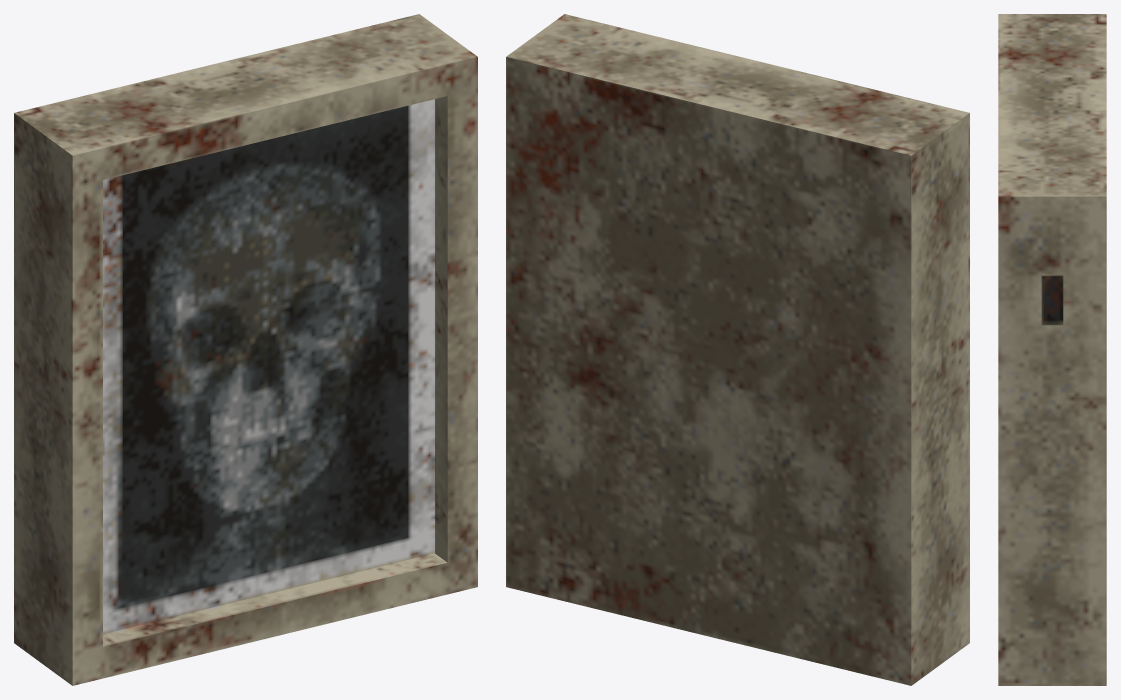
The model's file is x_ray_skull.fbx.
3 views of the same model, side by side, from view 1: azimuth 30°, elevation 25°; view 2: azimuth 150°, elevation 25°; view 3: azimuth 270°, elevation 25° (orthographic). The views are drawn at different scales.
Parts seen in each view (by area): view 1: x_ray_skull; view 2: x_ray_skull; view 3: x_ray_skull.
Boxes of the visible parts, bbox=[...] form: x_ray_skull: bbox=[14, 14, 477, 685]; x_ray_skull: bbox=[506, 14, 969, 685]; x_ray_skull: bbox=[998, 14, 1106, 685].
Bounding box in the file's own units: 40.82 × 50 × 10.
Materials: 1 (1 with a texture image).
